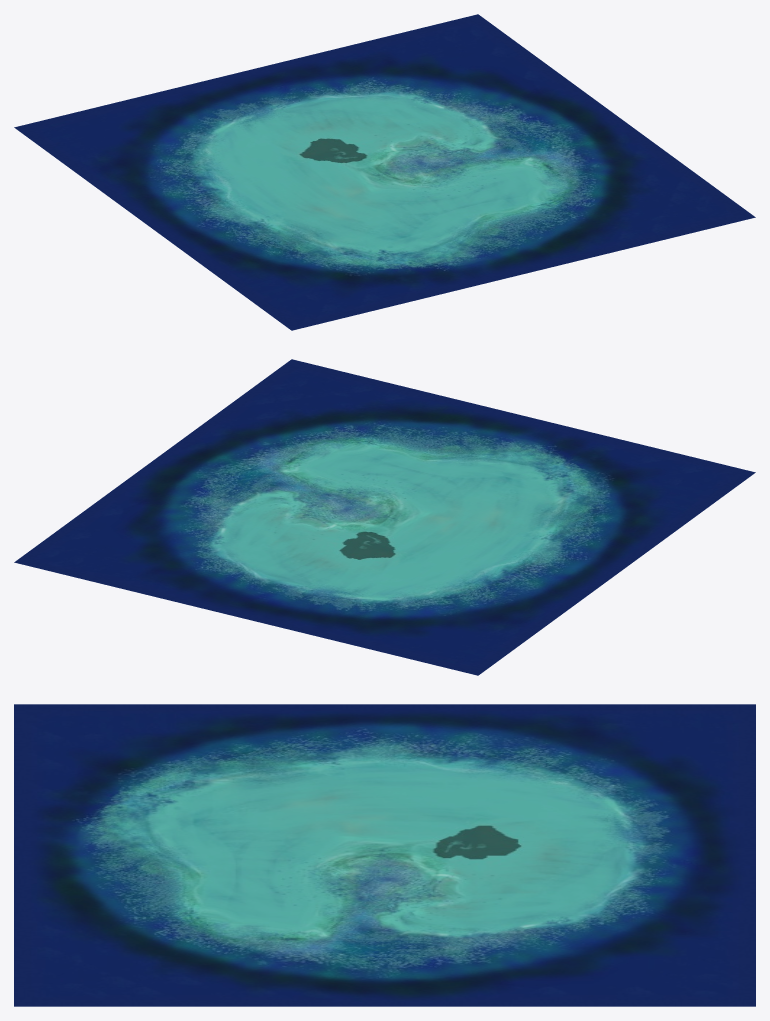
File: pir_m_are_isl_tortuga_ocean.fbx
The picture shows the model from 3 angles, top to bottom: view 1: azimuth 30°, elevation 25°; view 2: azimuth 150°, elevation 25°; view 3: azimuth 270°, elevation 25°; orthographic projection. The views are drawn at different scales.
Parts seen in each view (by area): view 1: water_color; view 2: water_color; view 3: water_color.
Part boxes in pixels (x1,y1,x2,y2): water_color: [14, 14, 755, 330]; water_color: [14, 359, 755, 675]; water_color: [14, 704, 755, 1006].
Size of what is drawn, in the model's own units: 755644 by 18.79 by 782972.
Materials: 4 (4 with a texture image).
